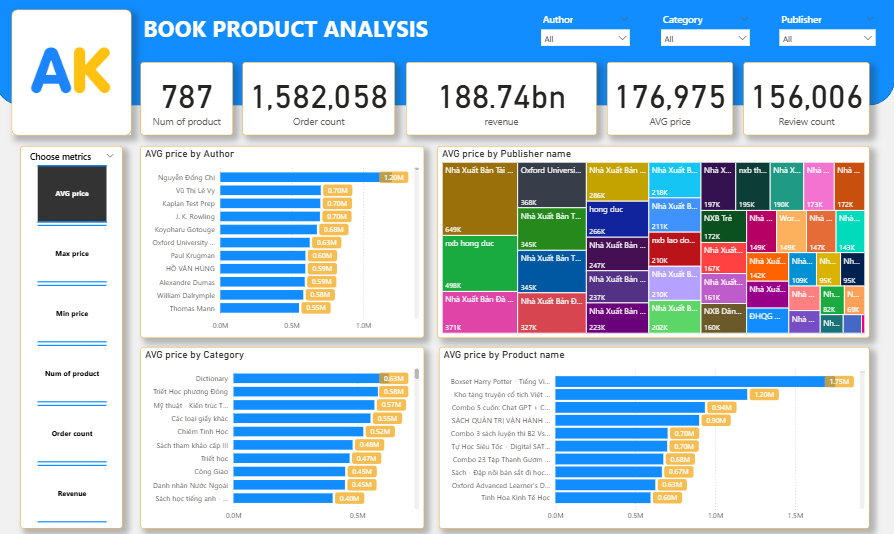

What the dashboard file says about the page in this screenshot:
{"tool":"powerbi","page":{"name":"Product Overview","canvas":[1500,1600],"ordinal":0},"visuals":[{"type":"shape","box":[0,0,1500,276.7],"z":0},{"type":"card","fields":{"Values":["Business measures.Num of product"]},"box":[250,183.3,153.3,153.3],"z":1000},{"type":"card","fields":{"Values":["Business measures.AVG price"]},"box":[1026.7,183.3,210,153.3],"z":2000},{"type":"card","fields":{"Values":["Business measures.Review Count"]},"box":[1253.3,183.3,210,153.3],"z":3000},{"type":"card","fields":{"Values":["Business measures.Order Count"]},"box":[420,183.3,253.3,153.3],"z":4000},{"type":"barChart","fields":{"Y":["Business measures.revenue"],"Category":["authorinfor.author new"]},"box":[36.4,878.6,687.5,220],"z":5000},{"type":"slicer","fields":{"Values":["Parameter.Parameter"]},"box":[1083.9,623.6,385,235],"z":6000},{"type":"barChart","fields":{"Y":["Business measures.revenue"],"Category":["categoryinfor.category_name"]},"box":[36,1114,688,230],"z":7000},{"type":"treemap","fields":{"Values":["Business measures.revenue"],"Group":["publisherinfor.publisherName"]},"box":[740,880,726,706],"z":8000},{"type":"card","fields":{"Values":["Business measures.revenue"]},"box":[690,183.3,320,153.3],"z":9000},{"type":"clusteredBarChart","fields":{"Y":["Business measures.revenue"],"Category":["productinfor.product_name"]},"box":[36.4,623.6,1020,235],"z":10000},{"type":"slicer","fields":{"Values":["authorinfor.author new"]},"box":[742.5,17.5,167.5,70],"z":11000},{"type":"slicer","fields":{"Values":["categoryinfor.category_name"]},"box":[1027.5,17.5,167.5,70],"z":12000},{"type":"slicer","fields":{"Values":["publisherinfor.publisherName"]},"box":[1298,18,180,70],"z":13000},{"type":"textbox","box":[33.3,16.7,570,123.3],"z":14000},{"type":"shape","box":[33.3,86.7,200,250],"z":15000},{"type":"image","box":[43.3,120,183.3,183.3],"z":16000},{"type":"lineChart","fields":{"Category":["dimDate.Month Name","dimDate.Date"],"Y":["Business measures.revenue"]},"box":[34.2,354.2,1430,252.5],"z":16001},{"type":"slicer","fields":{"Values":["dimDate.Date"]},"box":[740,87.5,737.5,100],"z":16002},{"type":"barChart","fields":{"Y":["Business measures.revenue"],"Category":["customerinfor.customer_name"]},"box":[34,1360,688,226],"z":16003}]}

Visuals, with their boxes on the page's 1500x1600 design canvas (x1, y1, x2, y2). These are canvas units, not pixel positions in the 894x534 screenshot, which may show the page scaled, cropped or inside an application window:
shape: <bbox>0, 0, 1500, 277</bbox>
card - Business measures.Num of product: <bbox>250, 183, 403, 337</bbox>
card - Business measures.AVG price: <bbox>1027, 183, 1237, 337</bbox>
card - Business measures.Review Count: <bbox>1253, 183, 1463, 337</bbox>
card - Business measures.Order Count: <bbox>420, 183, 673, 337</bbox>
barChart - Business measures.revenue x authorinfor.author new: <bbox>36, 879, 724, 1099</bbox>
slicer - Parameter.Parameter: <bbox>1084, 624, 1469, 859</bbox>
barChart - Business measures.revenue x categoryinfor.category_name: <bbox>36, 1114, 724, 1344</bbox>
treemap - Business measures.revenue x publisherinfor.publisherName: <bbox>740, 880, 1466, 1586</bbox>
card - Business measures.revenue: <bbox>690, 183, 1010, 337</bbox>
clusteredBarChart - Business measures.revenue x productinfor.product_name: <bbox>36, 624, 1056, 859</bbox>
slicer - authorinfor.author new: <bbox>742, 18, 910, 88</bbox>
slicer - categoryinfor.category_name: <bbox>1028, 18, 1195, 88</bbox>
slicer - publisherinfor.publisherName: <bbox>1298, 18, 1478, 88</bbox>
textbox: <bbox>33, 17, 603, 140</bbox>
shape: <bbox>33, 87, 233, 337</bbox>
image: <bbox>43, 120, 227, 303</bbox>
lineChart - dimDate.Month Name x dimDate.Date: <bbox>34, 354, 1464, 607</bbox>
slicer - dimDate.Date: <bbox>740, 88, 1478, 188</bbox>
barChart - Business measures.revenue x customerinfor.customer_name: <bbox>34, 1360, 722, 1586</bbox>
